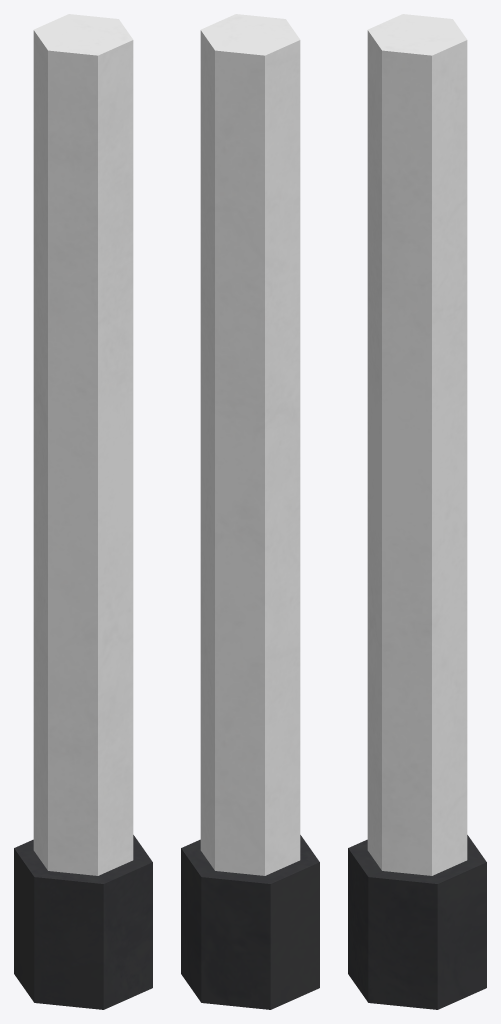
File: pilar.fbx
3 views of the same model, side by side, from view 1: azimuth 30°, elevation 25°; view 2: azimuth 150°, elevation 25°; view 3: azimuth 270°, elevation 25° (orthographic).
Parts seen in each view (by area): view 1: pilares; view 2: pilares; view 3: pilares.
Boxes of the visible parts, bbox=[...] form: pilares: bbox=[14, 14, 152, 1009]; pilares: bbox=[181, 14, 319, 1009]; pilares: bbox=[348, 14, 486, 1009].
Size of the model in its own units: 266 by 2031 by 270.
2 materials, 2 textured.
